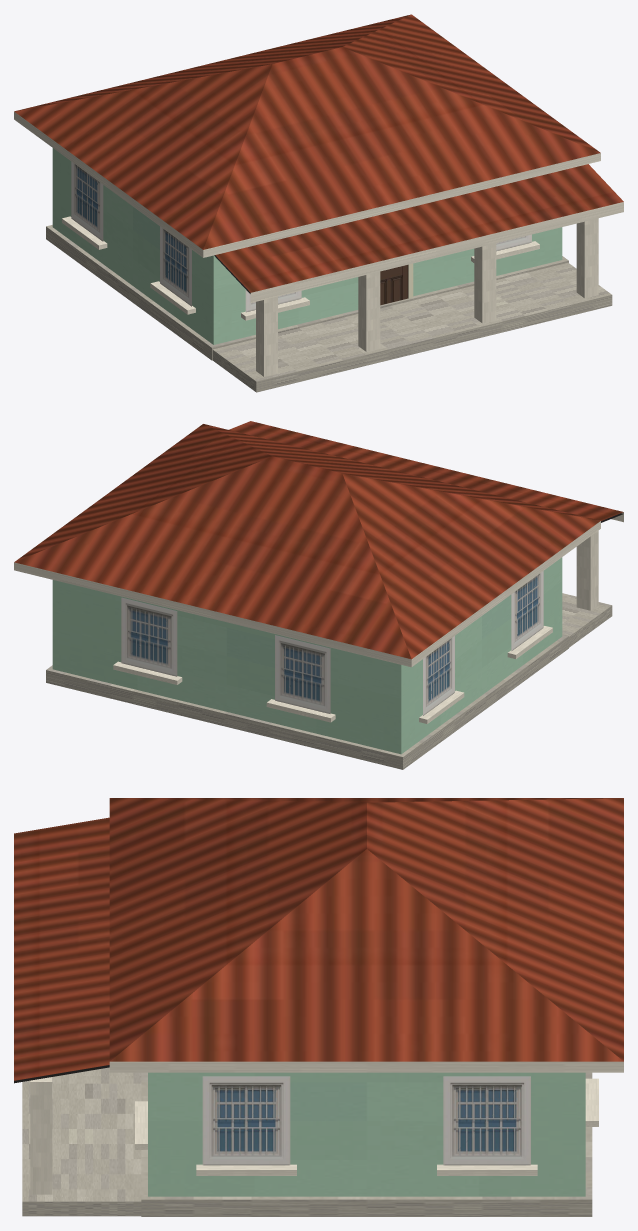
File: bungalow-mint.glb
3 renders of one model, top to bottom at view 1: azimuth 30°, elevation 25°; view 2: azimuth 150°, elevation 25°; view 3: azimuth 270°, elevation 25°, orthographic. The views are drawn at different scales.
Parts seen in each view (by area): view 1: bungalow-mint; view 2: bungalow-mint; view 3: bungalow-mint.
Part boxes in pixels (x1,y1,x2,y2): bungalow-mint: (14, 14, 623, 392); bungalow-mint: (14, 421, 623, 769); bungalow-mint: (14, 798, 623, 1216).
Size of the model in its own units: 11.4 by 5.5 by 11.15.
1 material, 1 textured.
